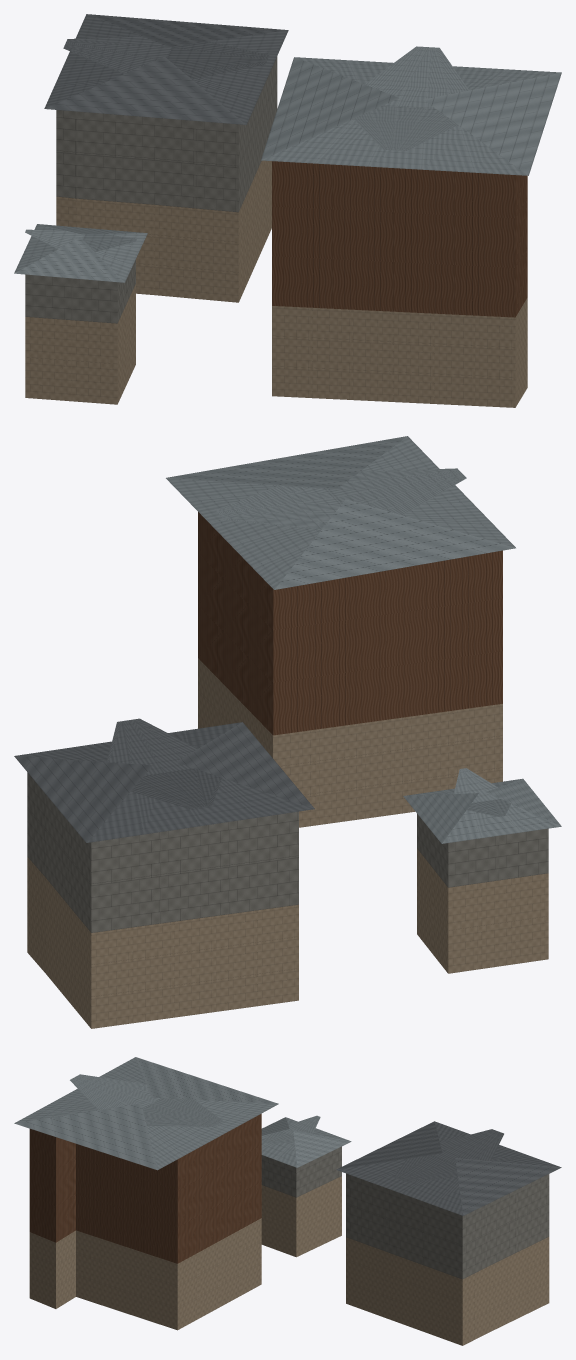
Rendered from bld_c15_38_410.gltf.
3 renders of one model, top to bottom at view 1: azimuth 30°, elevation 25°; view 2: azimuth 150°, elevation 25°; view 3: azimuth 270°, elevation 25°, orthographic. The views are drawn at different scales.
Visible parts, largest first — view 1: bld_c15_38_410; view 2: bld_c15_38_410; view 3: bld_c15_38_410.
Boxes of the visible parts, x1=… form: bld_c15_38_410: x1=14, y1=14, x2=561, y2=407; bld_c15_38_410: x1=14, y1=436, x2=561, y2=1028; bld_c15_38_410: x1=14, y1=1057, x2=561, y2=1345.
Bounding box in the file's own units: 27.21 × 16.8 × 38.11.
5 materials, 5 textured.
